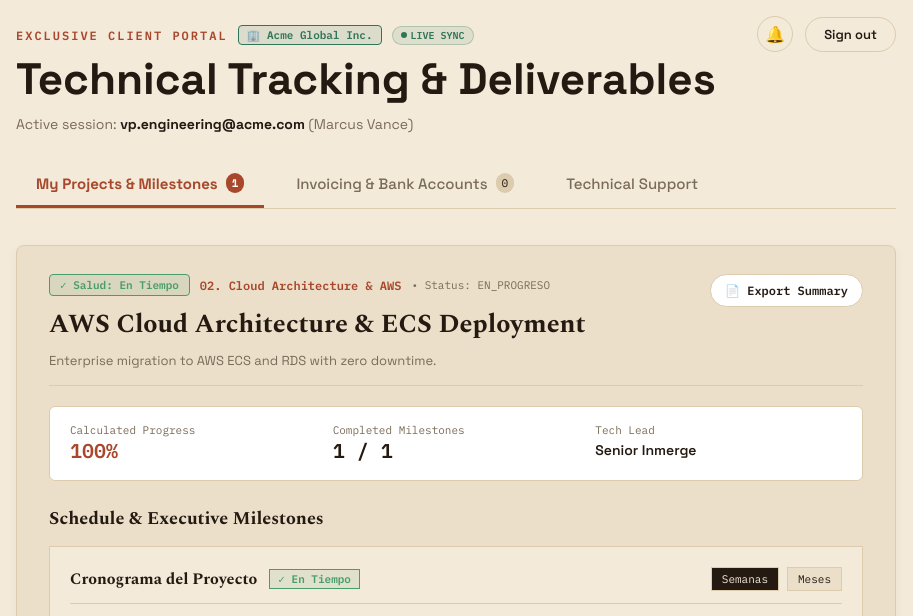
Test: Cuenta Component › switches to Technical Support tab and displays localized direct contact channels
Click the button "Technical Support". click: (632, 184)
box: [546,161,718,208]
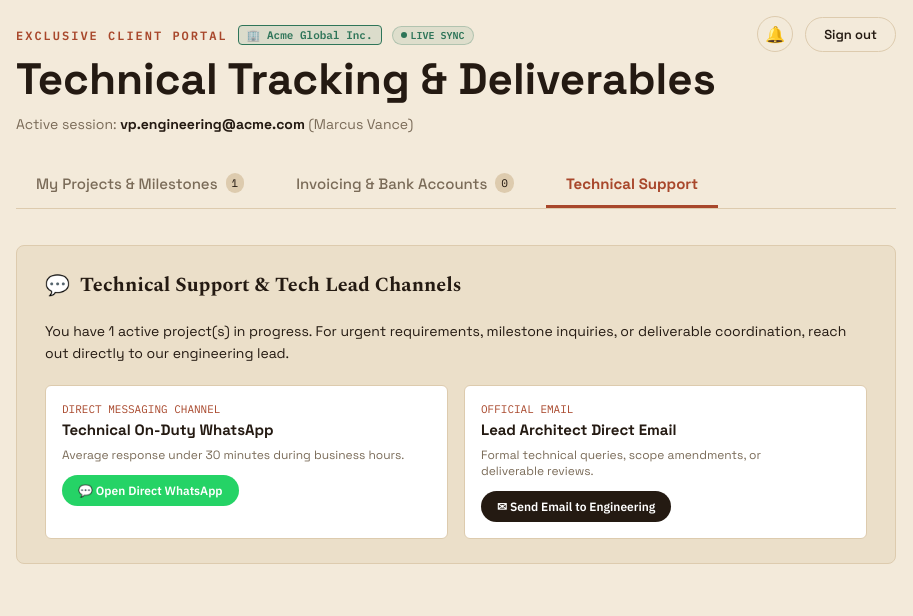
Now the text "DIRECT MESSAGING CHANNEL" is shown, box [62,402,220,416]
Now the text "Technical On-Duty WhatsApp" is shown, box [62,420,274,439]
Now the link "💬 Open Direct WhatsApp" is shown, box [62,475,239,506]
